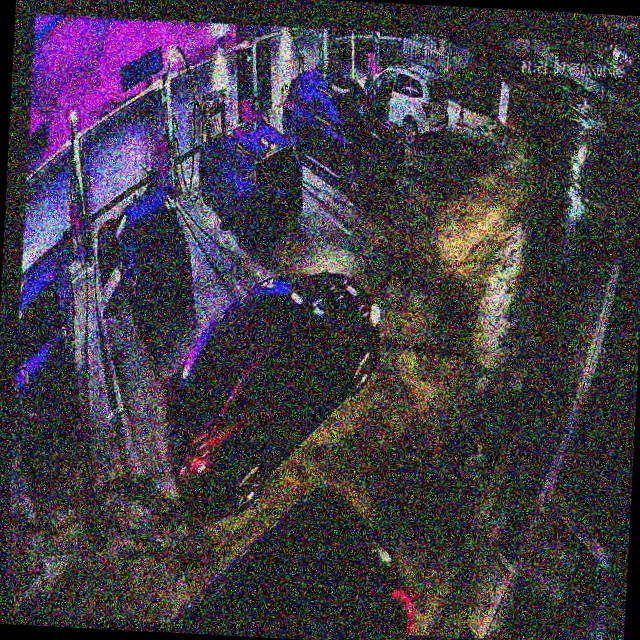Car: (159, 253, 388, 523), (282, 67, 405, 200), (195, 121, 313, 252), (94, 179, 187, 334)
